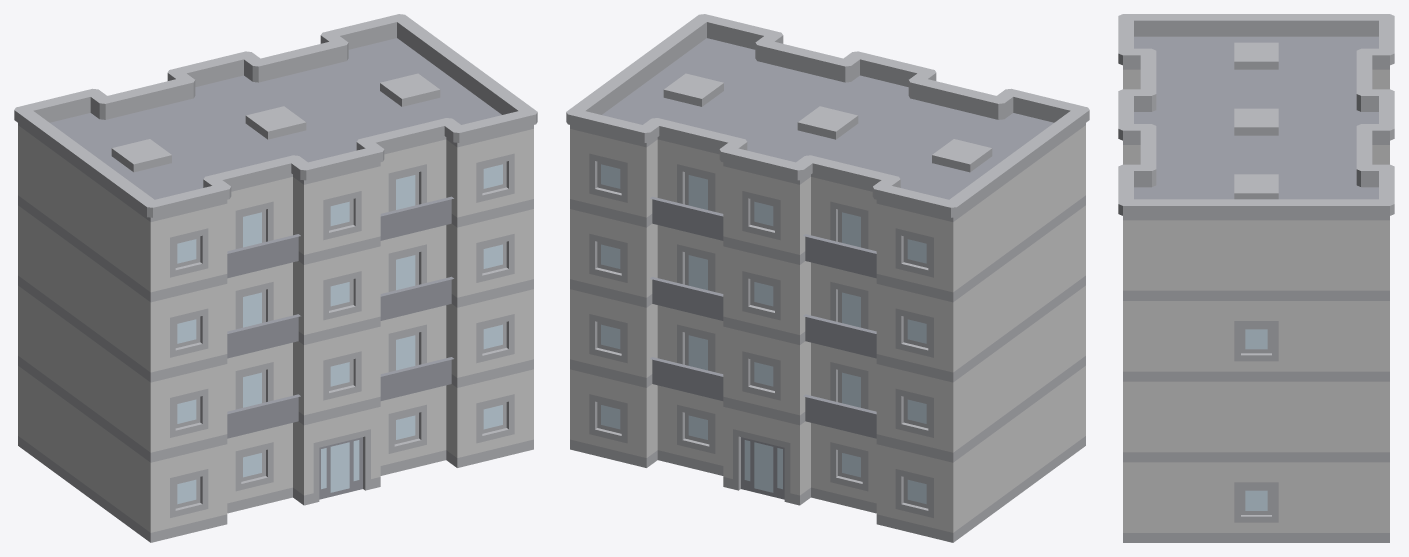
File: building.glb
3 views of the same model, side by side, from view 1: azimuth 30°, elevation 25°; view 2: azimuth 150°, elevation 25°; view 3: azimuth 270°, elevation 25° (orthographic).
Visible parts, largest first — view 1: large_buildingA; view 2: large_buildingA; view 3: large_buildingA.
Boxes of the visible parts, box(x1,y1,x2,y2) form: large_buildingA: box(14, 14, 537, 542); large_buildingA: box(566, 14, 1089, 542); large_buildingA: box(1118, 14, 1394, 542).
Bounding box in the file's own units: 2.04 × 1.68 × 1.24.
